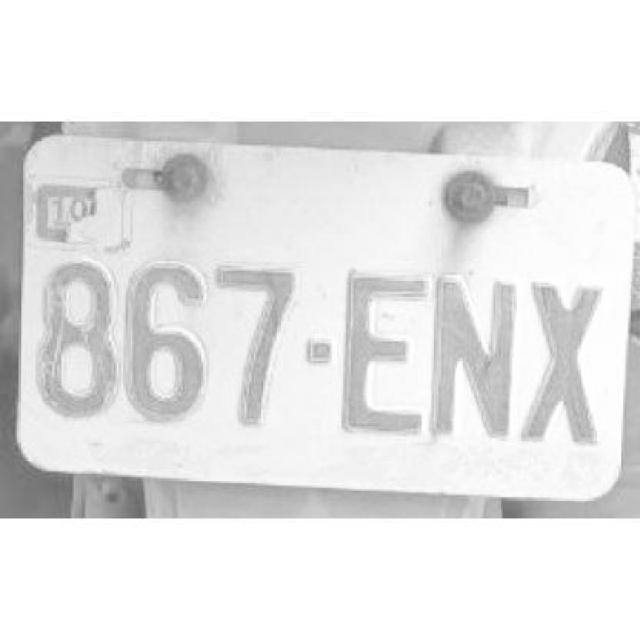-: (306, 337, 334, 368)
6: (121, 257, 208, 425)
7: (211, 254, 303, 431)
8: (38, 258, 120, 422)
E: (338, 269, 428, 433)
N: (426, 273, 516, 437)
X: (516, 274, 605, 443)
